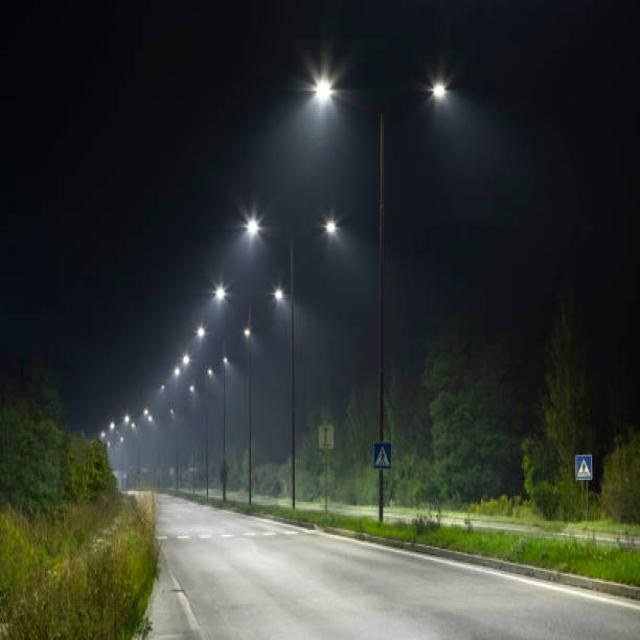acesa: (300, 59, 349, 107), (422, 69, 455, 100), (316, 208, 346, 238), (238, 210, 264, 238), (268, 282, 289, 304), (210, 279, 229, 301), (196, 325, 208, 341)
